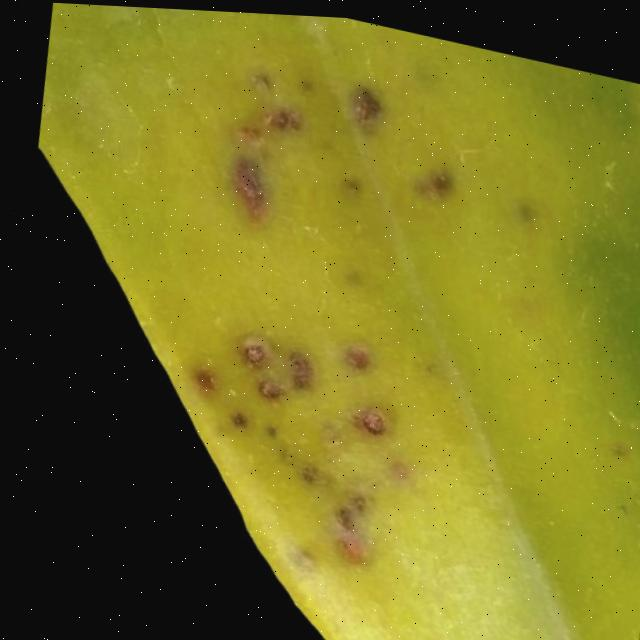mite: (160, 35, 550, 598), (181, 307, 397, 467), (179, 357, 223, 405), (228, 330, 271, 374), (278, 346, 312, 391), (262, 102, 303, 136), (185, 364, 217, 398), (336, 341, 369, 373), (249, 374, 282, 404), (288, 458, 318, 488), (234, 338, 263, 369), (426, 167, 452, 195), (221, 408, 246, 431), (256, 420, 274, 439)
sunburn: (161, 300, 424, 582)
